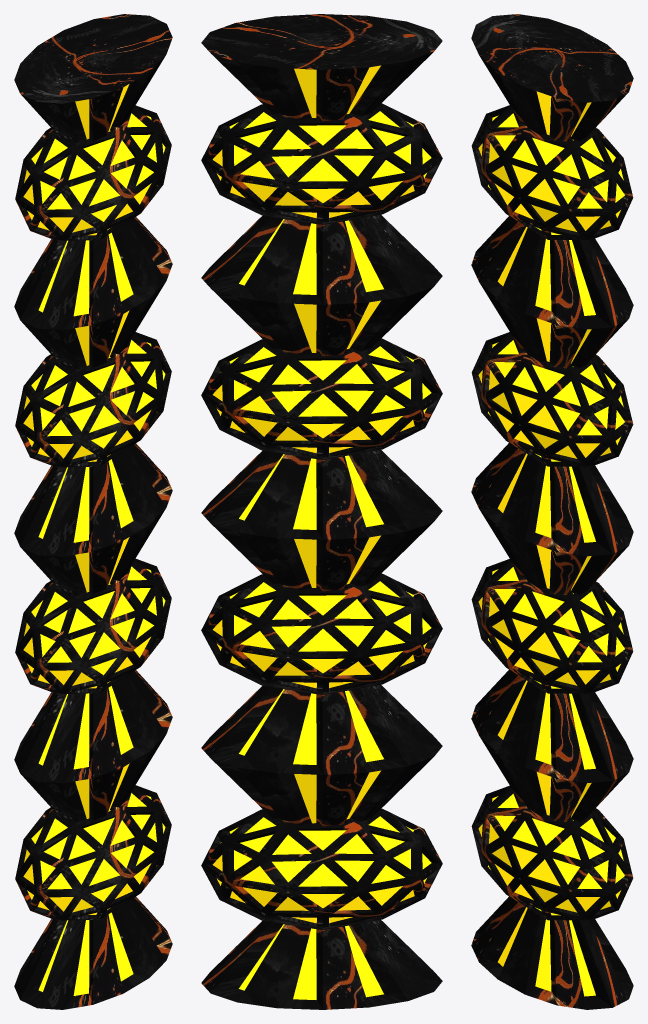
Rendered from track3Building4.glb.
The picture shows the model from 3 angles, left to right: view 1: azimuth 30°, elevation 25°; view 2: azimuth 150°, elevation 25°; view 3: azimuth 270°, elevation 25°; orthographic projection. The views are drawn at different scales.
Parts seen in each view (by area): view 1: Cone; view 2: Cone; view 3: Cone.
Boxes of the visible parts, x1,y1,x2,y2 form: Cone: (14,14,172,1009); Cone: (201,14,442,1009); Cone: (471,14,633,1009).
Size of the model in its own units: 1.26 by 6.03 by 0.978.
Materials: 2 (1 with a texture image).
